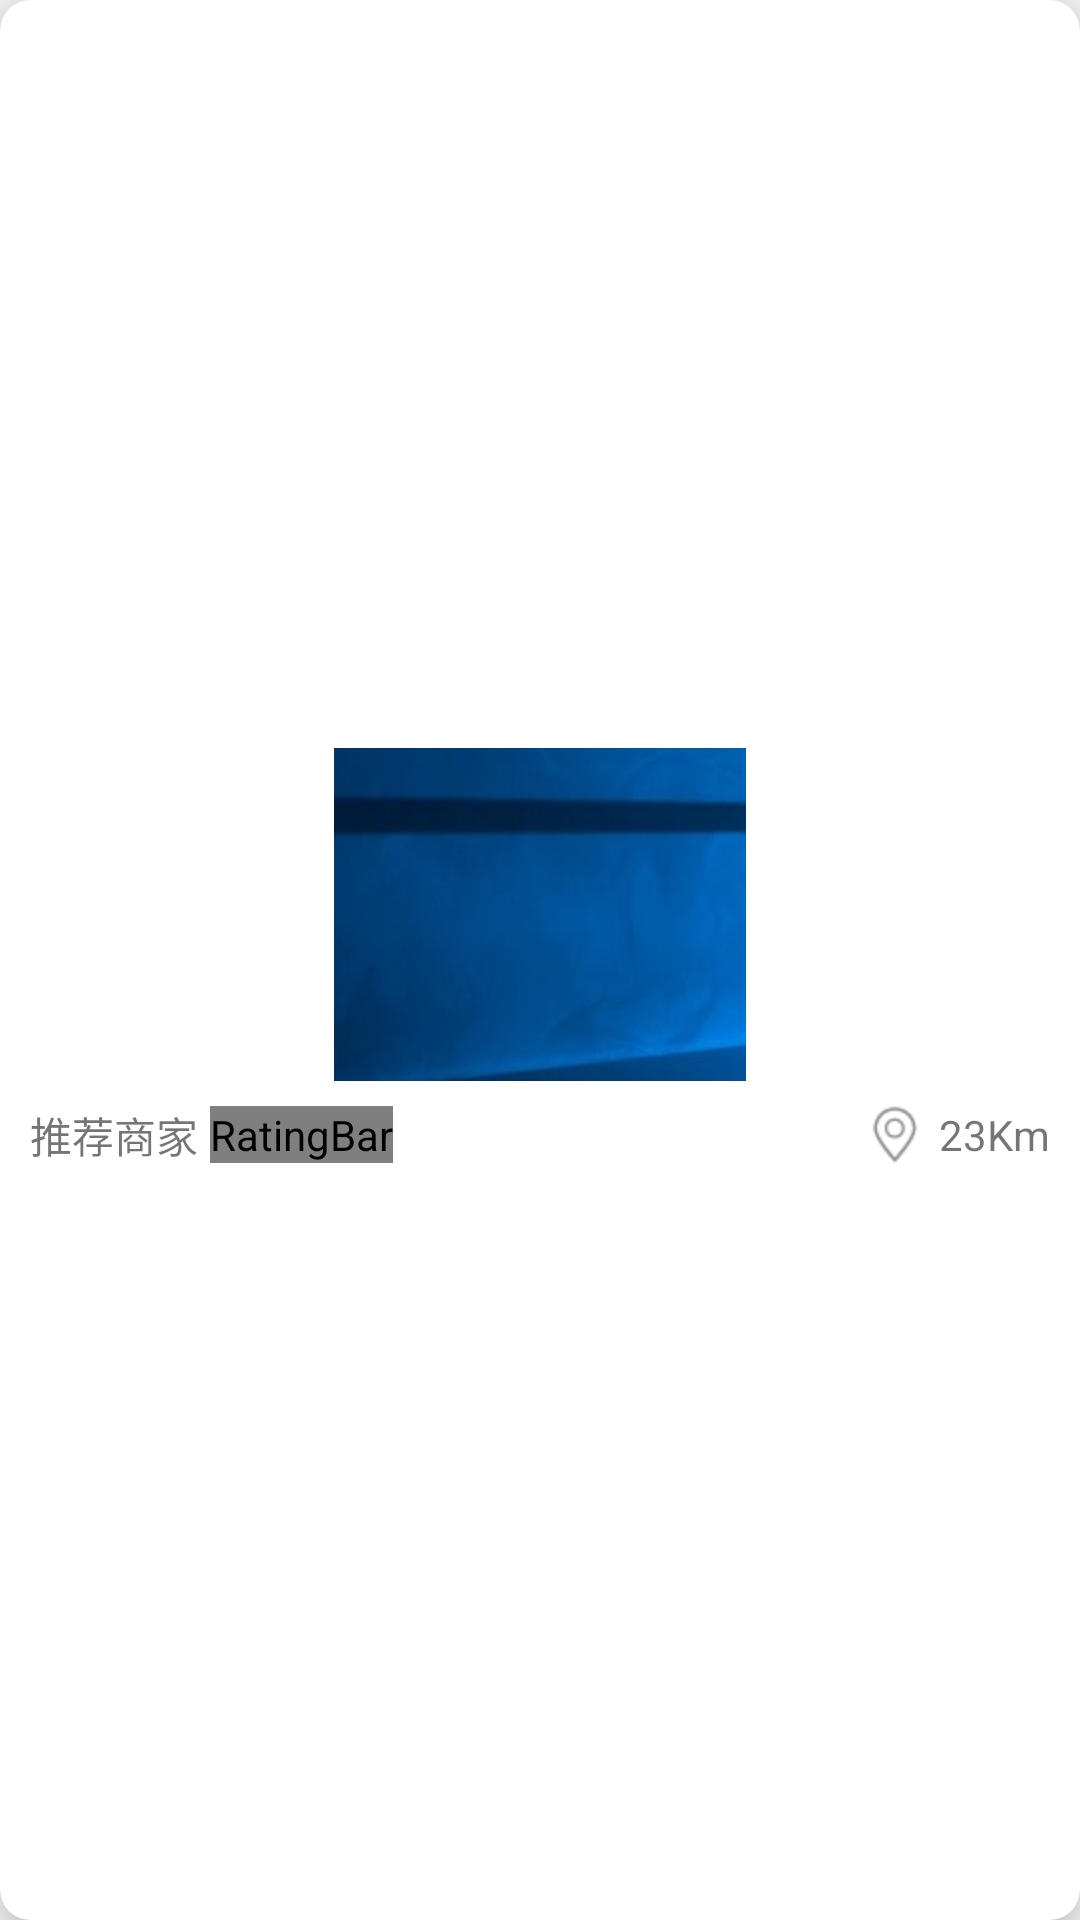

Named icons in this screenshot (1080×1920) and their bounding boxes, (x1, y1, x2, y2):
location item: (873, 1107, 917, 1162)
